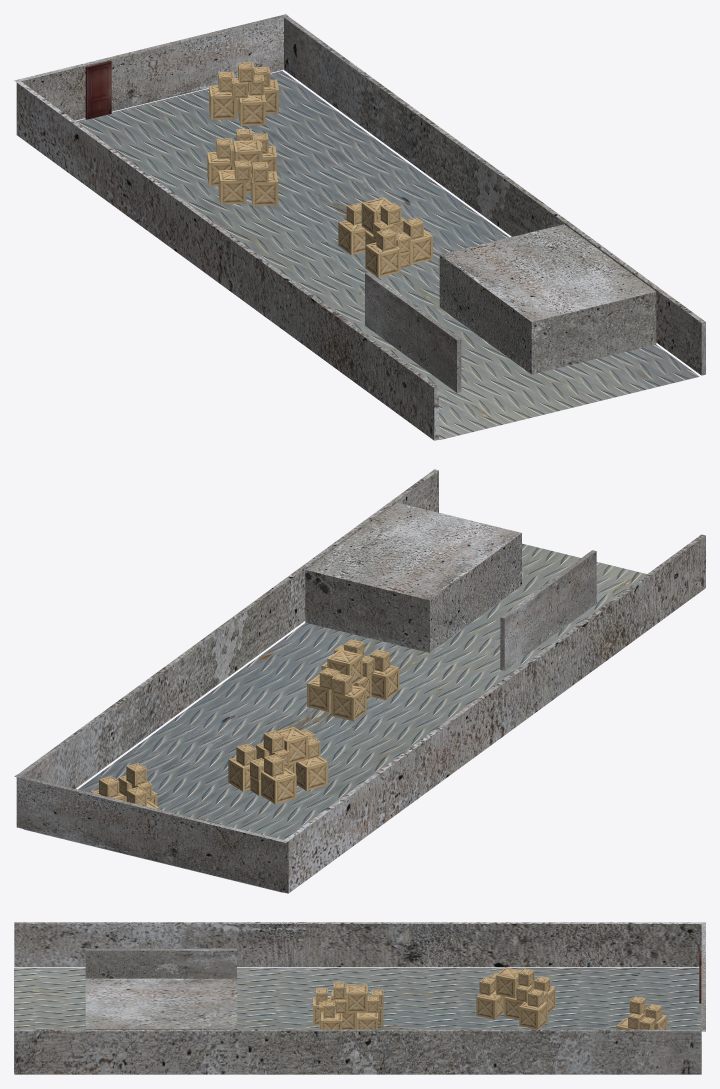
File: level.fbx
3 renders of one model, top to bottom at view 1: azimuth 30°, elevation 25°; view 2: azimuth 150°, elevation 25°; view 3: azimuth 270°, elevation 25°, orthographic. The views are drawn at different scales.
Visible parts, largest first — view 1: Plane, Cube.002, Cube.001, Cube.003, Cube.034, Cube, Cube.044, Cube.008, Cube.031, Cube.043, Cube.041, Cube.004 (+1 smaller); view 2: Plane, Cube.002, Cube.001, Cube.003, Cube.034, Cube, Cube.028, Cube.004, Cube.031, Cube.007, Cube.008, Cube.030 (+1 smaller); view 3: Cube.003, Cube.002, Plane, Cube.001, Cube, Cube.033, Cube.029, Cube.007, Cube.030, Cube.034, Cube.006, Cube.032 (+6 smaller).
Boxes of the visible parts, <box> form: Plane: <box>76,71,699,439</box>; Cube.002: <box>16,81,438,440</box>; Cube.001: <box>439,224,656,374</box>; Cube.003: <box>284,16,705,375</box>; Cube.034: <box>14,14,288,120</box>; Cube: <box>365,272,461,392</box>; Cube.044: <box>85,60,111,119</box>; Cube.008: <box>365,242,400,277</box>; Cube.031: <box>218,170,246,204</box>; Cube.043: <box>238,92,265,125</box>; Cube.041: <box>209,85,236,119</box>; Cube.004: <box>338,220,367,254</box>; Plane: <box>23,543,646,892</box>; Cube.002: <box>284,534,705,892</box>; Cube.001: <box>305,502,521,652</box>; Cube.003: <box>17,469,438,788</box>; Cube.034: <box>14,775,288,893</box>; Cube: <box>500,550,596,670</box>; Cube.028: <box>261,767,296,804</box>; Cube.004: <box>331,685,366,720</box>; Cube.031: <box>296,756,327,790</box>; Cube.007: <box>327,649,362,685</box>; Cube.008: <box>371,665,399,699</box>; Cube.030: <box>278,727,308,764</box>; Cube.003: <box>14,1029,701,1074</box>; Cube.002: <box>14,922,701,967</box>; Plane: <box>14,968,701,1072</box>; Cube.001: <box>85,978,237,1029</box>; Cube: <box>85,948,236,978</box>; Cube.033: <box>476,991,504,1019</box>; Cube.029: <box>519,1002,547,1029</box>; Cube.007: <box>346,984,367,1012</box>; Cube.030: <box>496,967,520,998</box>; Cube.034: <box>701,922,705,1031</box>; Cube.006: <box>357,1012,377,1029</box>; Cube.032: <box>504,996,523,1019</box>.
Bounding box in the file's own units: 27180 × 5076 × 72734.
